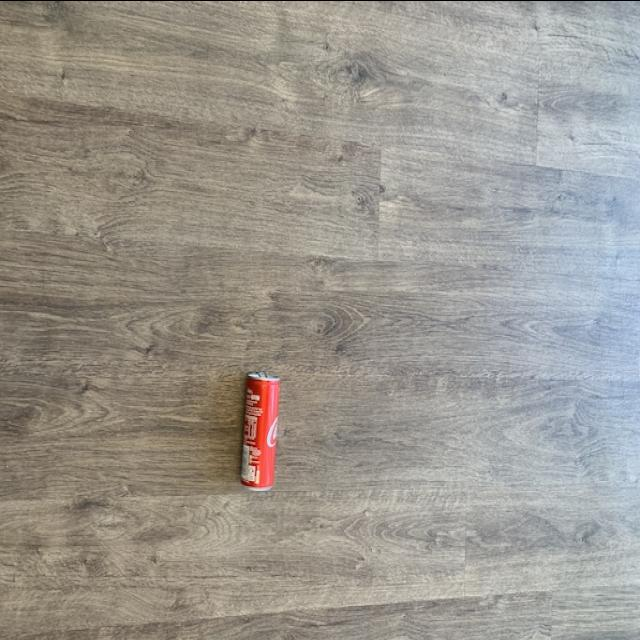litter: (220, 350, 298, 525)
